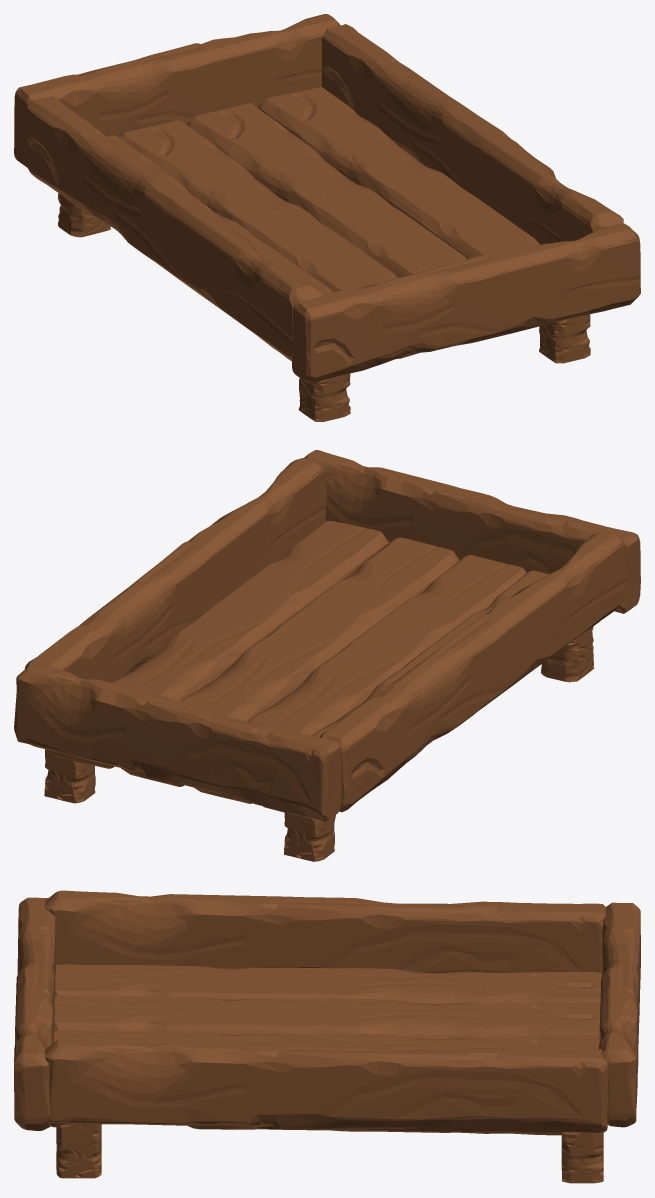
Rendered from Shed.fbx.
3 views of the same model, one above another, from view 1: azimuth 30°, elevation 25°; view 2: azimuth 150°, elevation 25°; view 3: azimuth 270°, elevation 25° (orthographic).
Visible parts, largest first — view 1: Shed; view 2: Shed; view 3: Shed.
Boxes of the visible parts, box(x1,y1,x2,y2) form: Shed: box(14, 14, 640, 421); Shed: box(14, 450, 640, 861); Shed: box(14, 890, 640, 1183).
Size of the model in its own units: 523 by 209 by 838.
